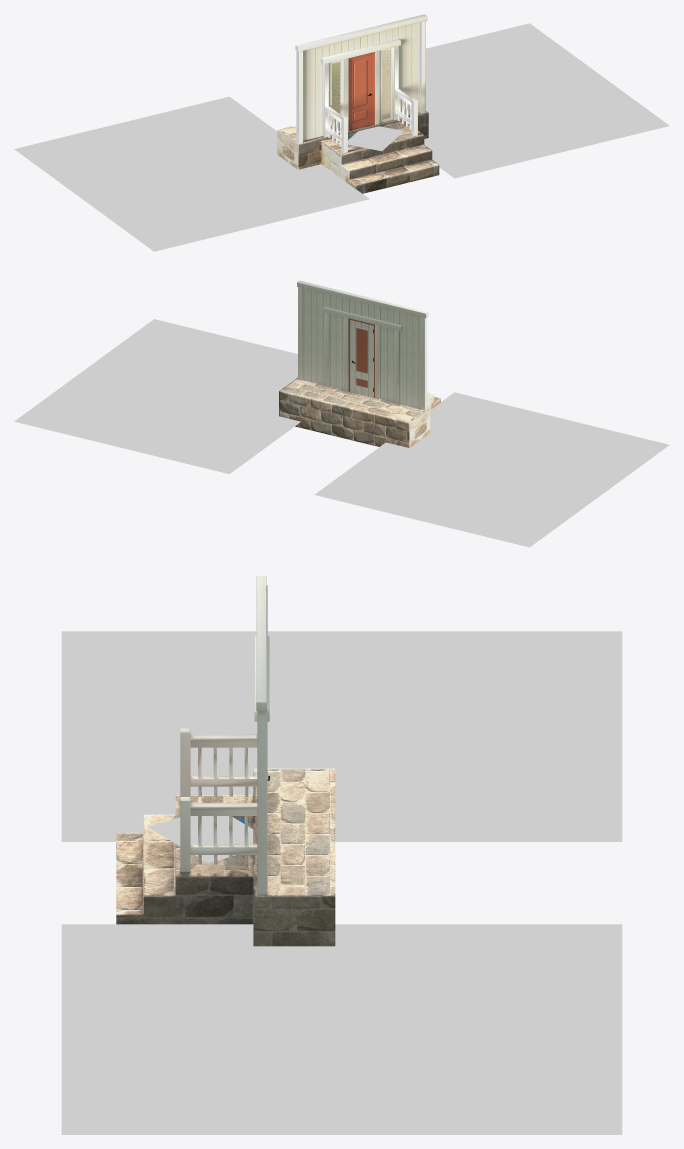
3 views of the same model, one above another, from view 1: azimuth 30°, elevation 25°; view 2: azimuth 150°, elevation 25°; view 3: azimuth 270°, elevation 25° (orthographic). The views are drawn at different scales.
Visible parts, largest first — view 1: grass, Cube.014, Cube.012, Cube, dver', Cube.008, Cube.005, box_shadow; view 2: grass, Cube, Cube.014, Cube.012, dver'; view 3: grass, Cube.014, Cube.012, box_shadow.
Boxes of the visible parts, <box> form: grass: <box>14,23,669,251</box>; Cube.014: <box>277,111,439,193</box>; Cube.012: <box>295,14,427,153</box>; Cube: <box>303,22,419,140</box>; dver': <box>348,52,374,130</box>; Cube.008: <box>332,50,390,131</box>; Cube.005: <box>329,47,393,133</box>; box_shadow: <box>348,126,403,151</box>; grass: <box>14,319,669,547</box>; Cube: <box>302,288,420,408</box>; Cube.014: <box>279,377,440,447</box>; Cube.012: <box>297,280,428,410</box>; dver': <box>348,318,374,397</box>; grass: <box>61,631,622,1134</box>; Cube.014: <box>116,768,335,946</box>; Cube.012: <box>180,576,269,894</box>; box_shadow: <box>148,816,253,863</box>.
Size of the model in its own units: 68.3 by 16.19 by 32.16.
Materials: 10 (8 with a texture image).
